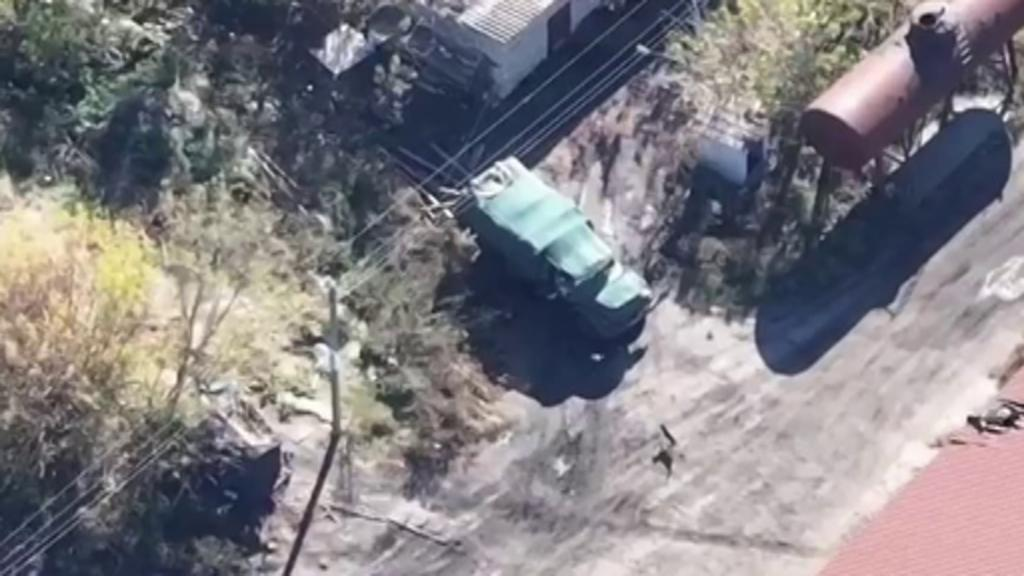TRUCK: (466, 174, 652, 344)
